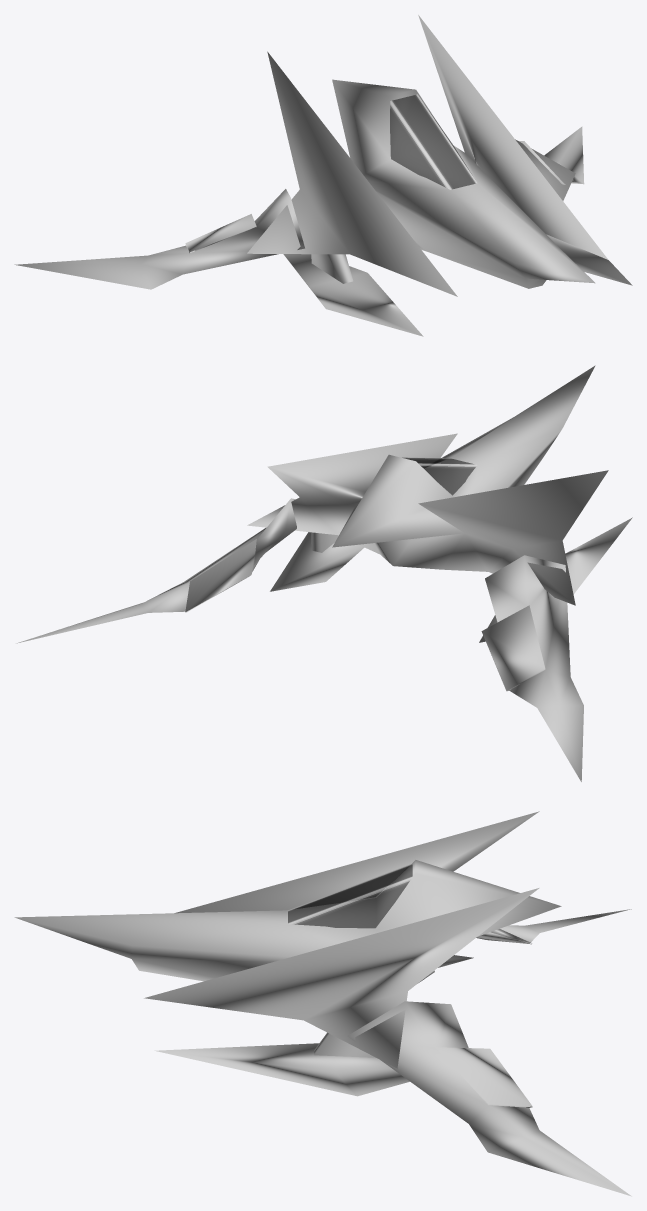
File: arwingNew66.obj
3 views of the same model, one above another, from view 1: azimuth 30°, elevation 25°; view 2: azimuth 150°, elevation 25°; view 3: azimuth 270°, elevation 25° (orthographic). The views are drawn at different scales.
Visible parts, largest first — view 1: Arwing.002; view 2: Arwing.002; view 3: Arwing.002.
Boxes of the visible parts, <box> form: Arwing.002: <box>14,15,632,336</box>; Arwing.002: <box>16,365,632,781</box>; Arwing.002: <box>14,811,631,1196</box>.
Bounding box in the file's own units: 6.52 × 2.15 × 5.93.
